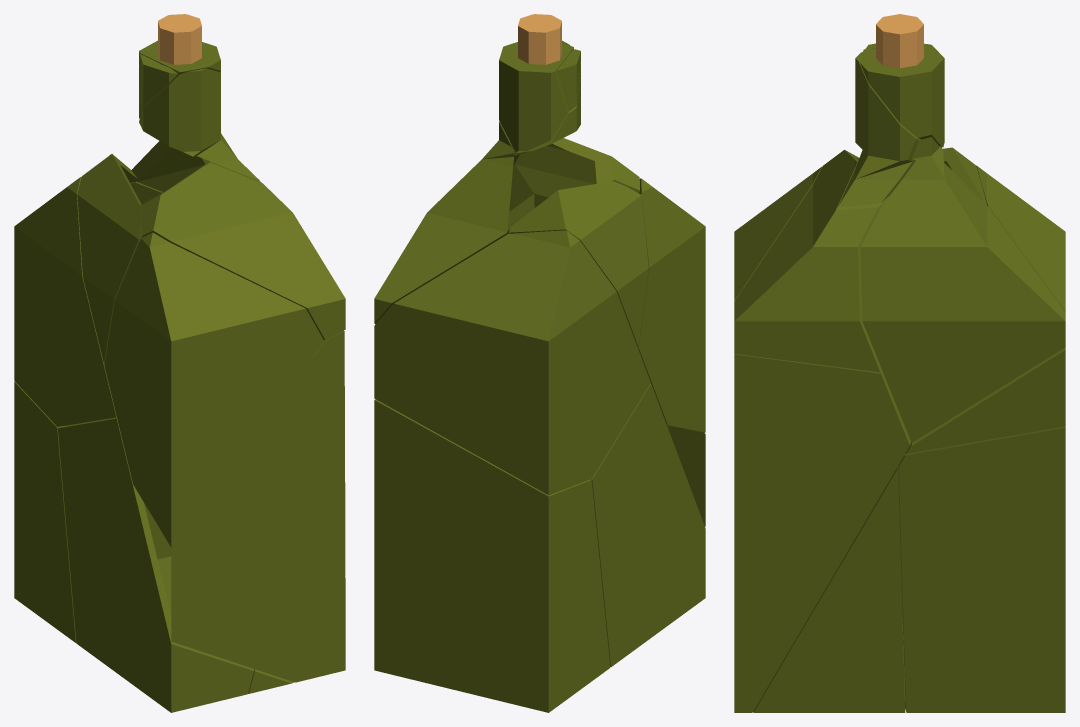
Rendered from bottle-whiskey-parts.fbx.
3 views of the same model, side by side, from view 1: azimuth 30°, elevation 25°; view 2: azimuth 150°, elevation 25°; view 3: azimuth 270°, elevation 25° (orthographic). The views are drawn at different scales.
Visible parts, largest first — view 1: whiskeybottle_cell.002_cell.002, whiskeybottle_cell.002_cell.004, whiskeybottle_cell_cell.002, whiskeybottle_cell_cell.004, whiskeybottle_cell.002_cell.001, whiskeybottle_cell_cell.003, whiskeybottle_cell.001, whiskeybottle_cell.002_cell, whiskeybottle_cell.003, cork, whiskeybottle_cell_cell; view 2: whiskeybottle_cell_cell.003, whiskeybottle_cell_cell.004, whiskeybottle_cell_cell.002, whiskeybottle_cell.002_cell.004, whiskeybottle_cell.003, whiskeybottle_cell.002_cell, whiskeybottle_cell.001, whiskeybottle_cell.002_cell.001, cork, whiskeybottle_cell.002_cell.002; view 3: whiskeybottle_cell_cell.003, whiskeybottle_cell.002_cell.002, whiskeybottle_cell.003, whiskeybottle_cell.002_cell.001, whiskeybottle_cell_cell, whiskeybottle_cell_cell.004, whiskeybottle_cell.001, whiskeybottle_cell.002_cell.004, cork, whiskeybottle_cell.002_cell.
Boxes of the visible parts, x1=… form: whiskeybottle_cell.002_cell.002: x1=171, y1=331, x2=345, y2=682; whiskeybottle_cell.002_cell.004: x1=104, y1=232, x2=324, y2=547; whiskeybottle_cell_cell.002: x1=58, y1=418, x2=253, y2=712; whiskeybottle_cell_cell.004: x1=14, y1=177, x2=162, y2=426; whiskeybottle_cell.002_cell.001: x1=141, y1=161, x2=345, y2=340; whiskeybottle_cell_cell.003: x1=14, y1=381, x2=174, y2=643; whiskeybottle_cell.001: x1=139, y1=40, x2=259, y2=180; whiskeybottle_cell.002_cell: x1=77, y1=154, x2=141, y2=363; whiskeybottle_cell.003: x1=131, y1=141, x2=209, y2=191; cork: x1=158, y1=14, x2=201, y2=64; whiskeybottle_cell_cell: x1=248, y1=669, x2=294, y2=693; whiskeybottle_cell_cell.003: x1=374, y1=399, x2=610, y2=712; whiskeybottle_cell_cell.004: x1=374, y1=230, x2=650, y2=495; whiskeybottle_cell_cell.002: x1=591, y1=383, x2=705, y2=666; whiskeybottle_cell.002_cell.004: x1=638, y1=178, x2=705, y2=432; whiskeybottle_cell.003: x1=374, y1=121, x2=514, y2=323; whiskeybottle_cell.002_cell: x1=506, y1=181, x2=648, y2=347; whiskeybottle_cell.001: x1=499, y1=40, x2=580, y2=155; whiskeybottle_cell.002_cell.001: x1=507, y1=138, x2=639, y2=231; cork: x1=518, y1=14, x2=561, y2=64; whiskeybottle_cell.002_cell.002: x1=666, y1=424, x2=705, y2=526; whiskeybottle_cell_cell.003: x1=898, y1=426, x2=1065, y2=712; whiskeybottle_cell.002_cell.002: x1=734, y1=353, x2=910, y2=712; whiskeybottle_cell.003: x1=860, y1=137, x2=1065, y2=442; whiskeybottle_cell.002_cell.001: x1=734, y1=150, x2=888, y2=372; whiskeybottle_cell_cell: x1=753, y1=467, x2=905, y2=712; whiskeybottle_cell_cell.004: x1=905, y1=165, x2=1065, y2=453; whiskeybottle_cell.001: x1=838, y1=43, x2=944, y2=207; whiskeybottle_cell.002_cell.004: x1=734, y1=167, x2=821, y2=301; cork: x1=876, y1=14, x2=923, y2=68; whiskeybottle_cell.002_cell: x1=943, y1=147, x2=986, y2=204.
Size of the model in its own units: 0.2942 by 0.9837 by 0.4585.
